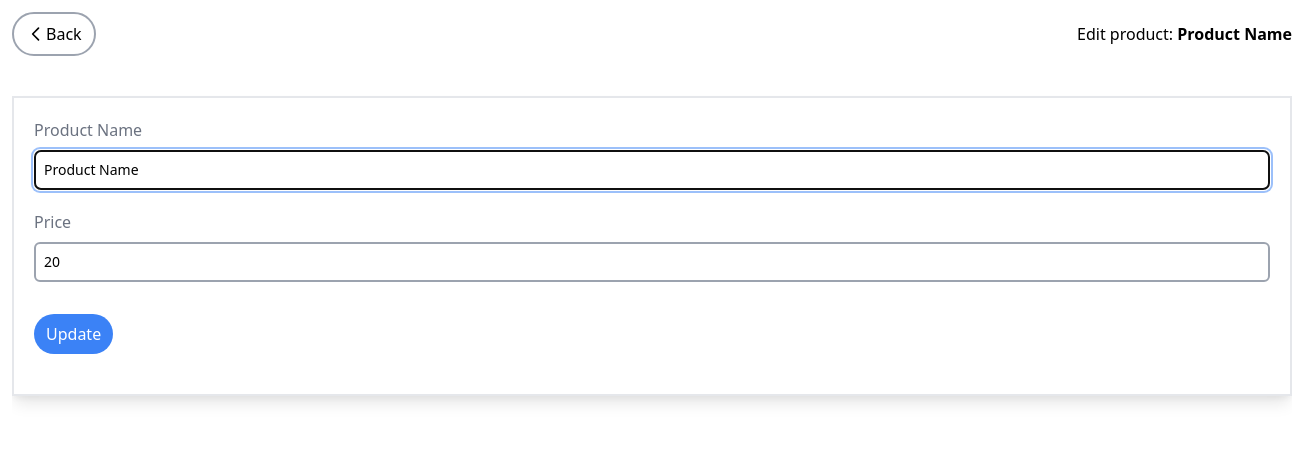
Test: EditProduct Test › EditProduct Store State › should a change product input details when form input is updated
Expected: the element with test id "productName" is shown, [34, 118, 1270, 190]
Expected: the label "Product Name" is shown, [34, 119, 142, 141]
Replace the text in the field labelled "Product Name" with "Updated Product Name" at (652, 170), box [34, 150, 1270, 190]
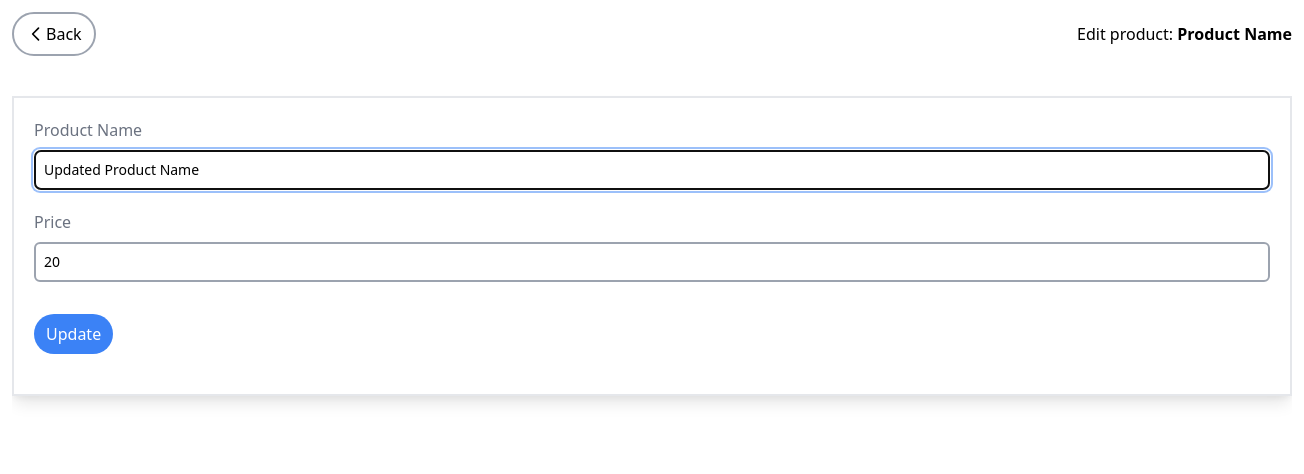
Expected: the element with test id "productPrice" is shown, [34, 210, 1270, 282]
Expected: the label "Price" is shown, [34, 211, 71, 233]
Replace the text in the number field labelled "Price" with "30" at (652, 262), box [34, 242, 1270, 282]
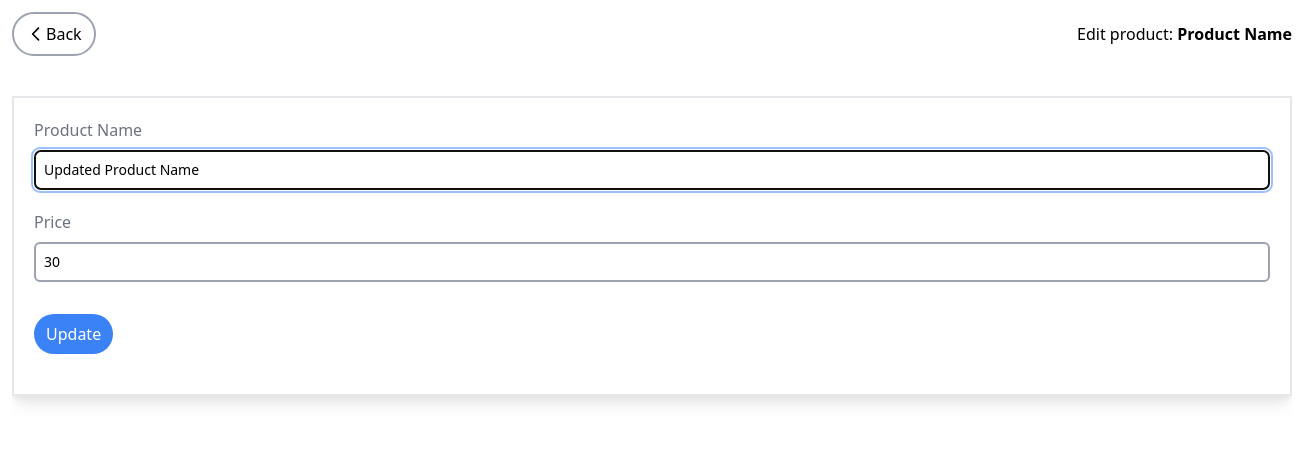
Expected: the button with test id "submitButton" is shown, [34, 314, 113, 354]
Submit the form from the element with test id "productName", box [34, 118, 1270, 190]
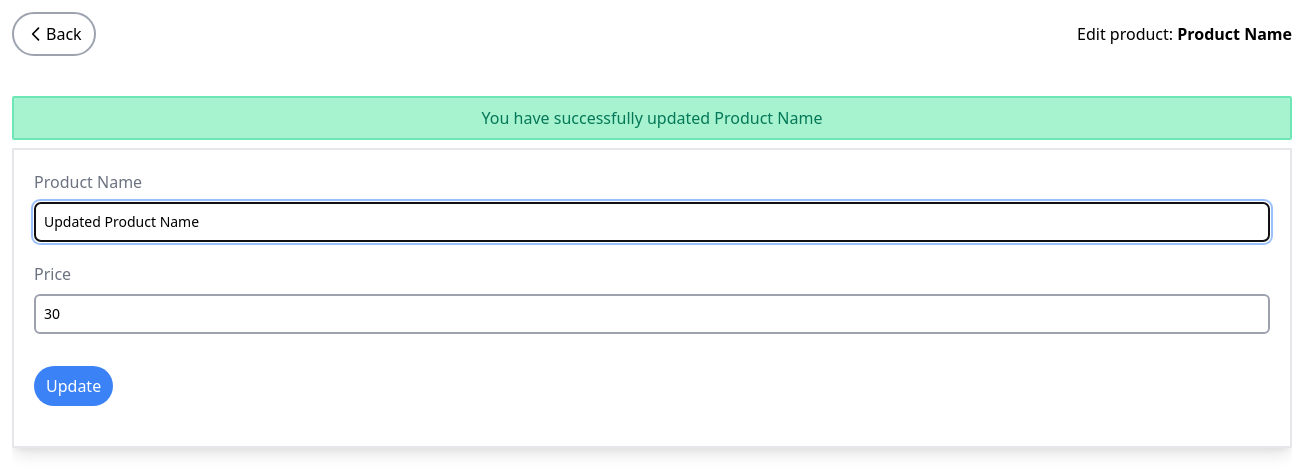
Now the text "You have successfully updated Product Name" is shown, box [12, 96, 1292, 140]
